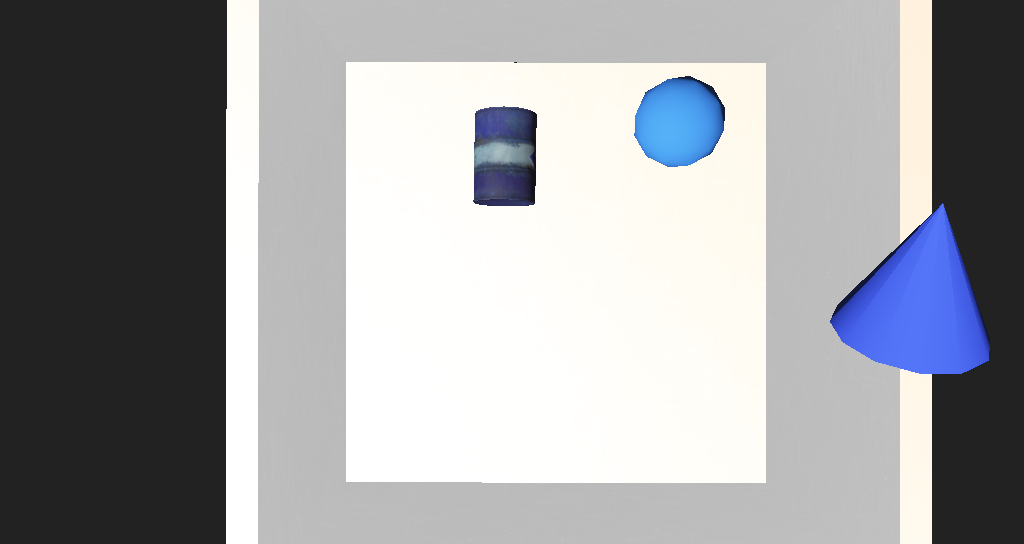cone: (448, 186, 495, 234)
cylinder: (637, 220, 792, 315)
sphere: (563, 174, 623, 217)
